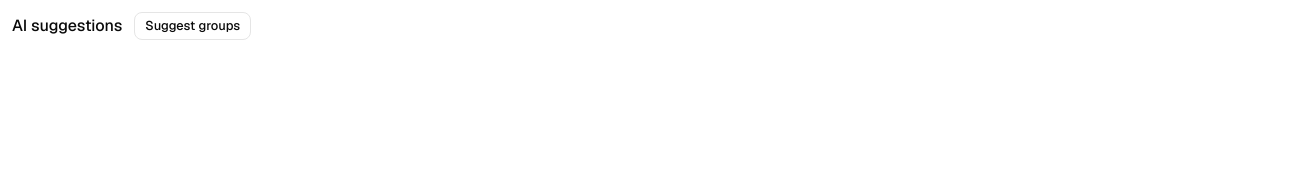
it: TriagePanel › says suggestions are unavailable when the run TIMED_OUT, and that Q&A carries on
Click the button "Suggest groups". click: click(193, 26)
box: [134,12,251,40]
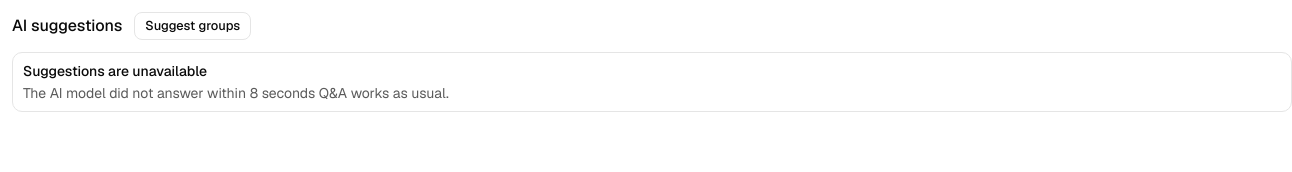
Expected: the text "Suggestions are unavailable" is shown, [23,62,207,80]
